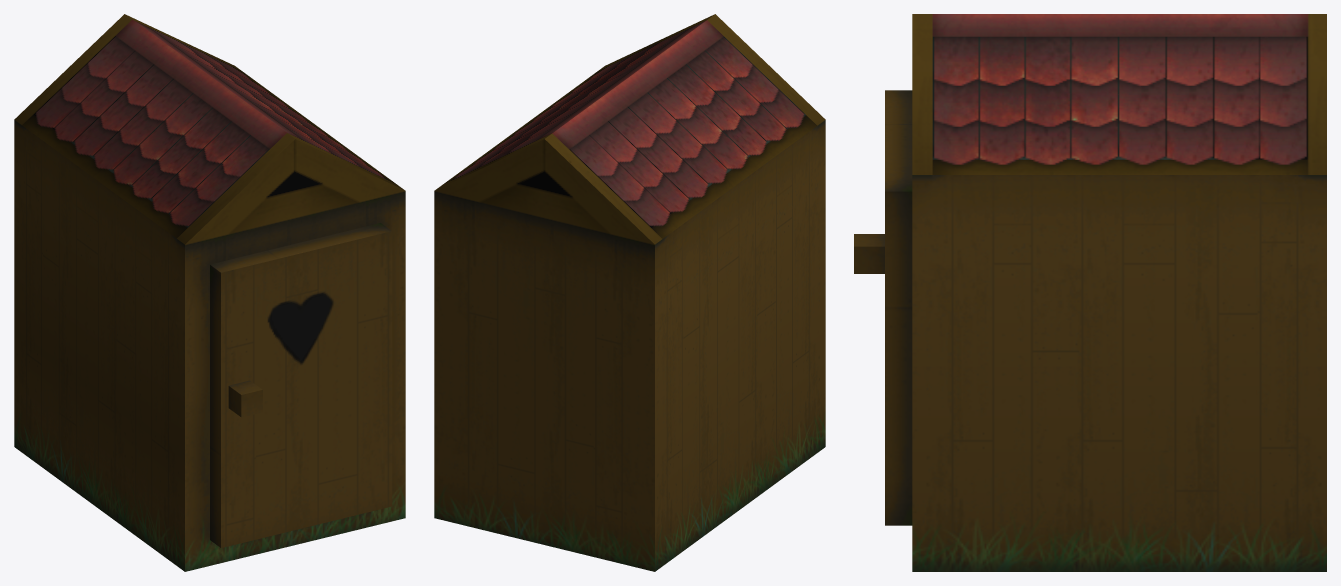
The model's file is mod_prop_toilet.fbx.
The picture shows the model from 3 angles, left to right: view 1: azimuth 30°, elevation 25°; view 2: azimuth 150°, elevation 25°; view 3: azimuth 270°, elevation 25°; orthographic projection. The views are drawn at different scales.
Parts seen in each view (by area): view 1: pCube28; view 2: pCube28; view 3: pCube28.
Boxes of the visible parts, bbox=[...] form: pCube28: bbox=[14, 14, 405, 571]; pCube28: bbox=[434, 14, 825, 571]; pCube28: bbox=[854, 14, 1326, 571].
Size of the model in its own units: 365 by 641 by 558.
